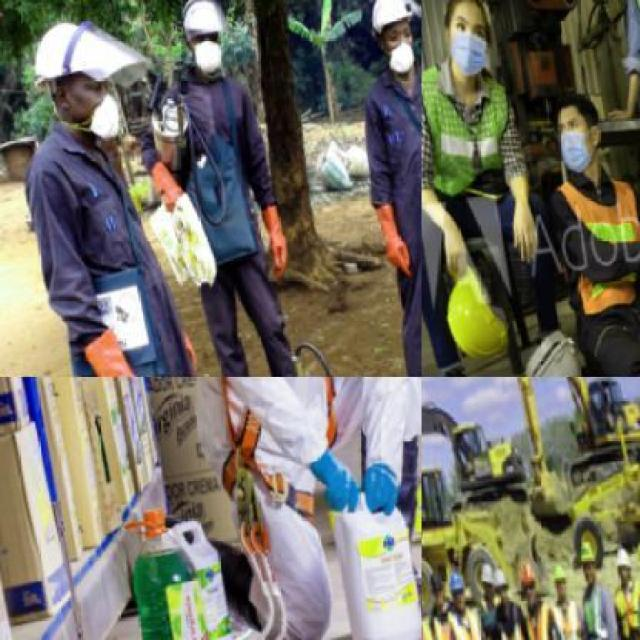Vest: (148, 377, 420, 495), (422, 48, 528, 212), (552, 169, 638, 320), (546, 588, 597, 638), (577, 586, 623, 639), (445, 603, 500, 639), (520, 596, 565, 638), (610, 578, 638, 638)
